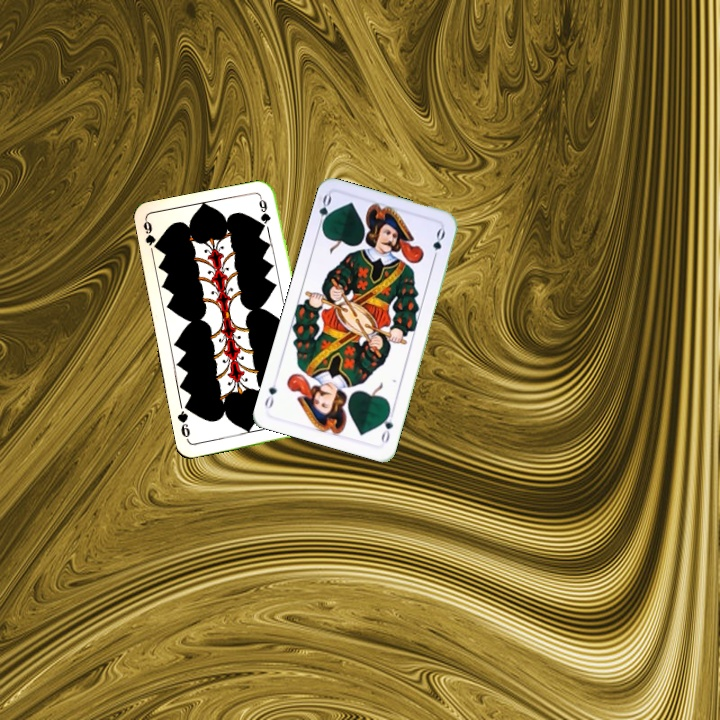G9: (139, 217, 161, 257)
GO: (314, 191, 335, 232), (377, 406, 397, 445)
